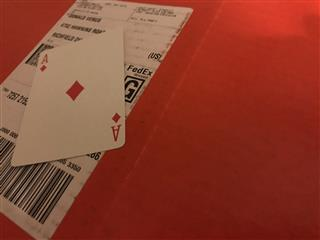AceOfDiamonds: (10, 27, 125, 166)
